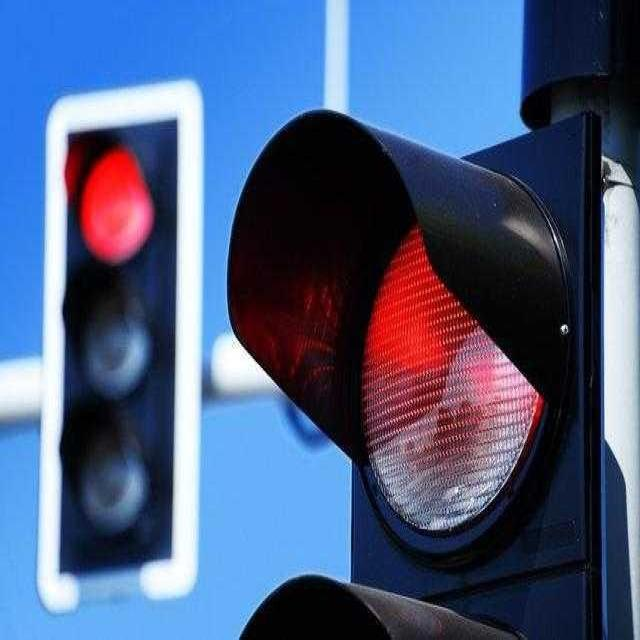Traffic Light -Red-: (34, 75, 211, 614)
